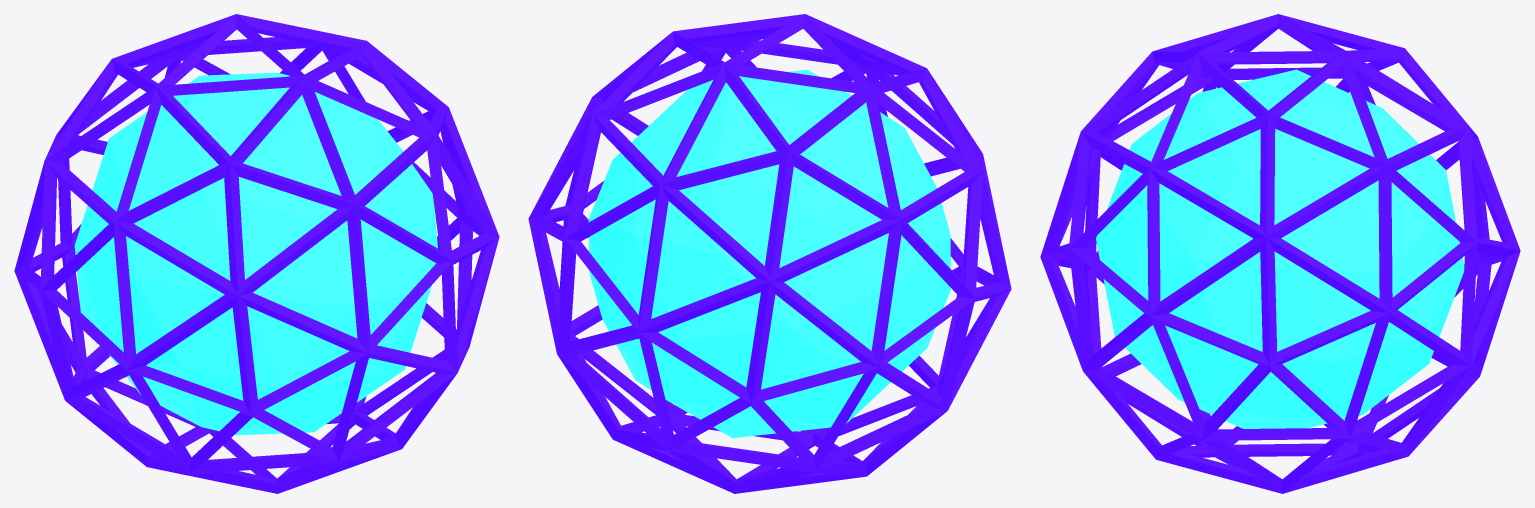
Rendered from MageProjectile.fbx.
The picture shows the model from 3 angles, left to right: view 1: azimuth 30°, elevation 25°; view 2: azimuth 150°, elevation 25°; view 3: azimuth 270°, elevation 25°; orthographic projection.
Parts seen in each view (by area): view 1: Icosphere.001; view 2: Icosphere.001; view 3: Icosphere.001.
Part boxes in pixels (x1=…): Icosphere.001: x1=14, y1=14, x2=499, y2=493; Icosphere.001: x1=528, y1=14, x2=1011, y2=493; Icosphere.001: x1=1040, y1=14, x2=1520, y2=493.
Size of the model in its own units: 96.92 by 93.28 by 96.97.
